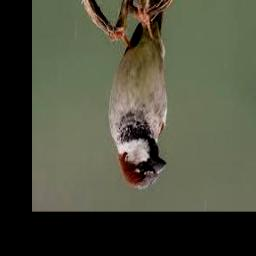Sparrow: (108, 0, 169, 191)
